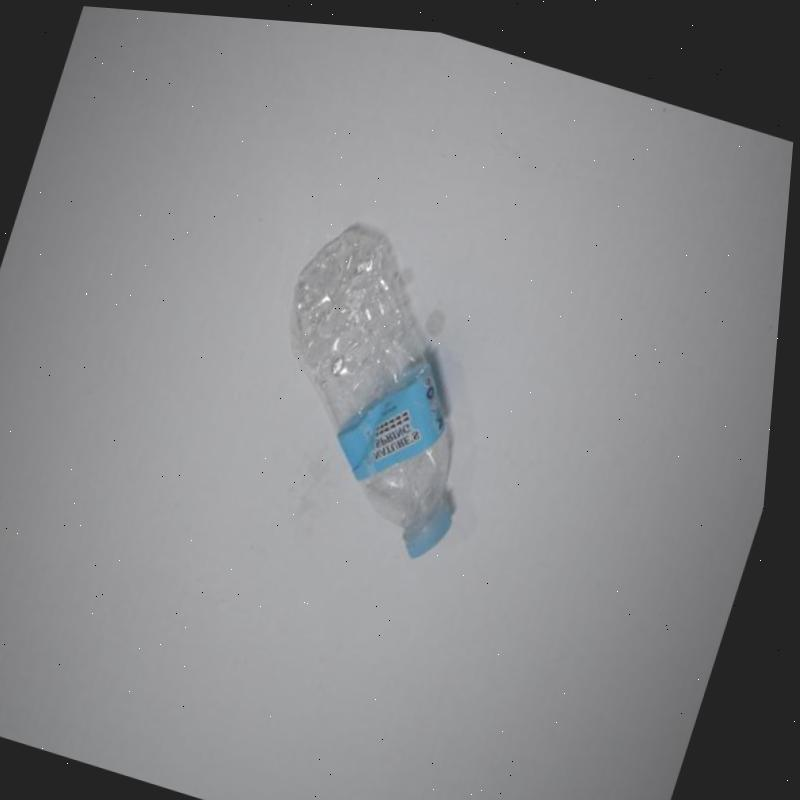botella: (233, 204, 538, 566)
